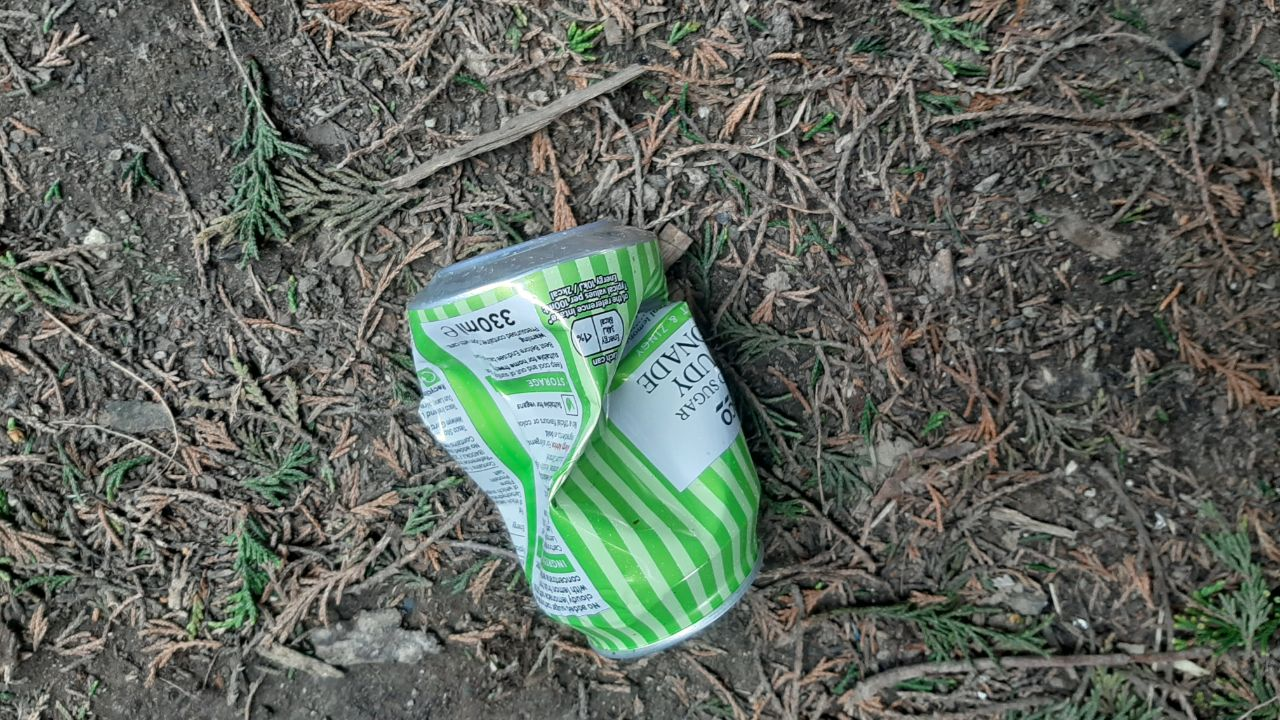Can: (404, 220, 767, 660)
